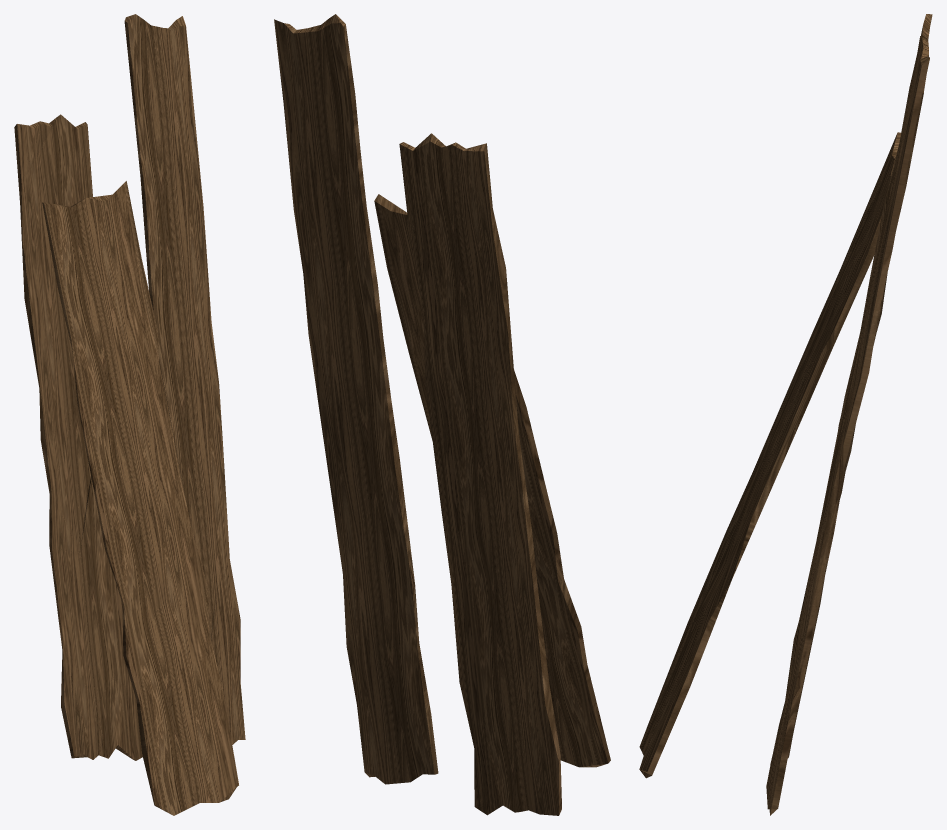
File: wood_prop1_LOD0.FBX
3 renders of one model, left to right at view 1: azimuth 30°, elevation 25°; view 2: azimuth 150°, elevation 25°; view 3: azimuth 270°, elevation 25°, orthographic. The views are drawn at different scales.
Visible parts, largest first — view 1: wood_prop1_LOD0; view 2: wood_prop1_LOD0; view 3: wood_prop1_LOD0.
Boxes of the visible parts, x1=… form: wood_prop1_LOD0: x1=14, y1=14, x2=245, y2=815; wood_prop1_LOD0: x1=274, y1=14, x2=610, y2=815; wood_prop1_LOD0: x1=639, y1=14, x2=932, y2=815.
Bounding box in the file's own units: 62.34 × 230 × 78.26.
